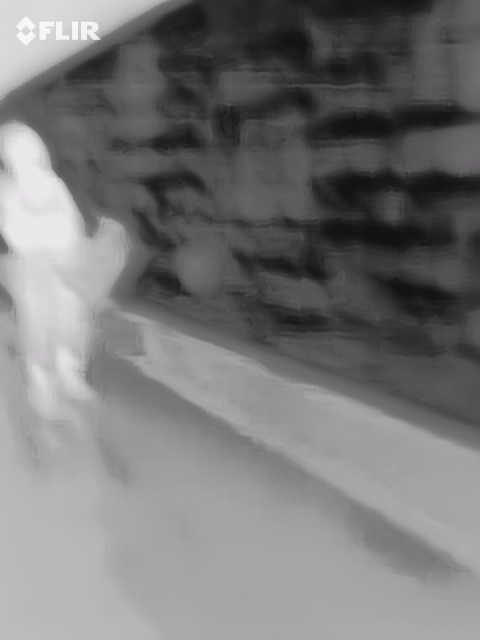head: (2, 123, 43, 177)
